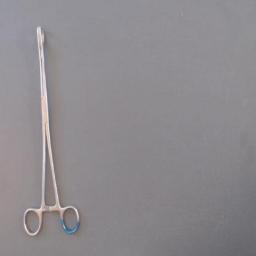Sponge Forceps: (20, 22, 82, 240)
